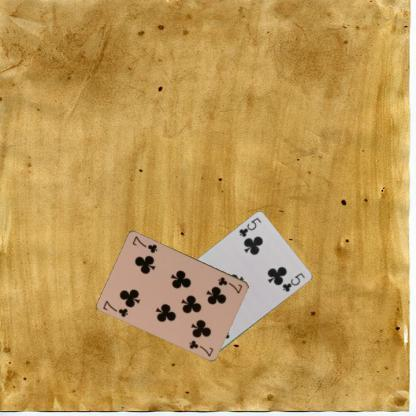5c: (236, 216, 262, 238)
7c: (215, 274, 244, 294), (101, 298, 130, 318)
